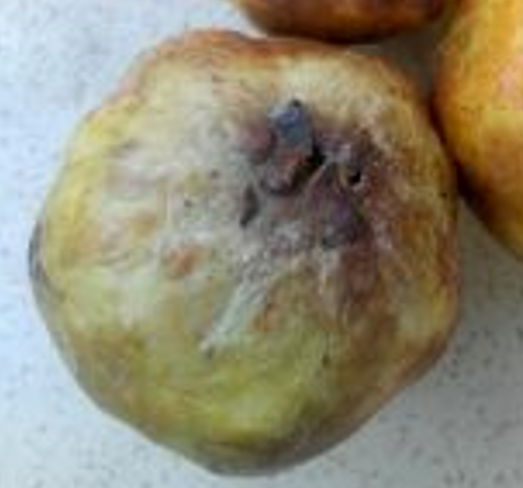guava_C: (28, 27, 464, 477)
